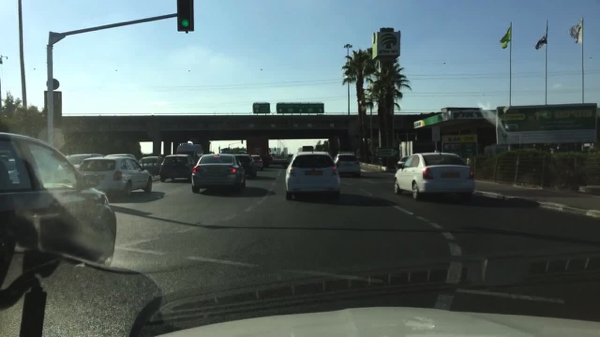bus: (176, 141, 203, 158)
car: (0, 133, 119, 264), (391, 154, 477, 201), (283, 148, 342, 197), (80, 156, 153, 193), (190, 153, 247, 193), (158, 154, 197, 183), (333, 153, 360, 177), (63, 152, 98, 168), (236, 153, 257, 176), (109, 152, 135, 166), (138, 156, 162, 171), (251, 154, 264, 169)
traffic light: (176, 1, 195, 32)
traffic sign: (44, 89, 64, 125), (277, 102, 325, 114), (37, 127, 61, 150), (251, 101, 270, 113), (44, 78, 59, 89)
